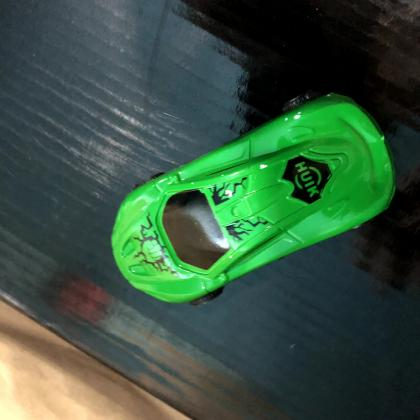Car: (108, 89, 398, 308)
